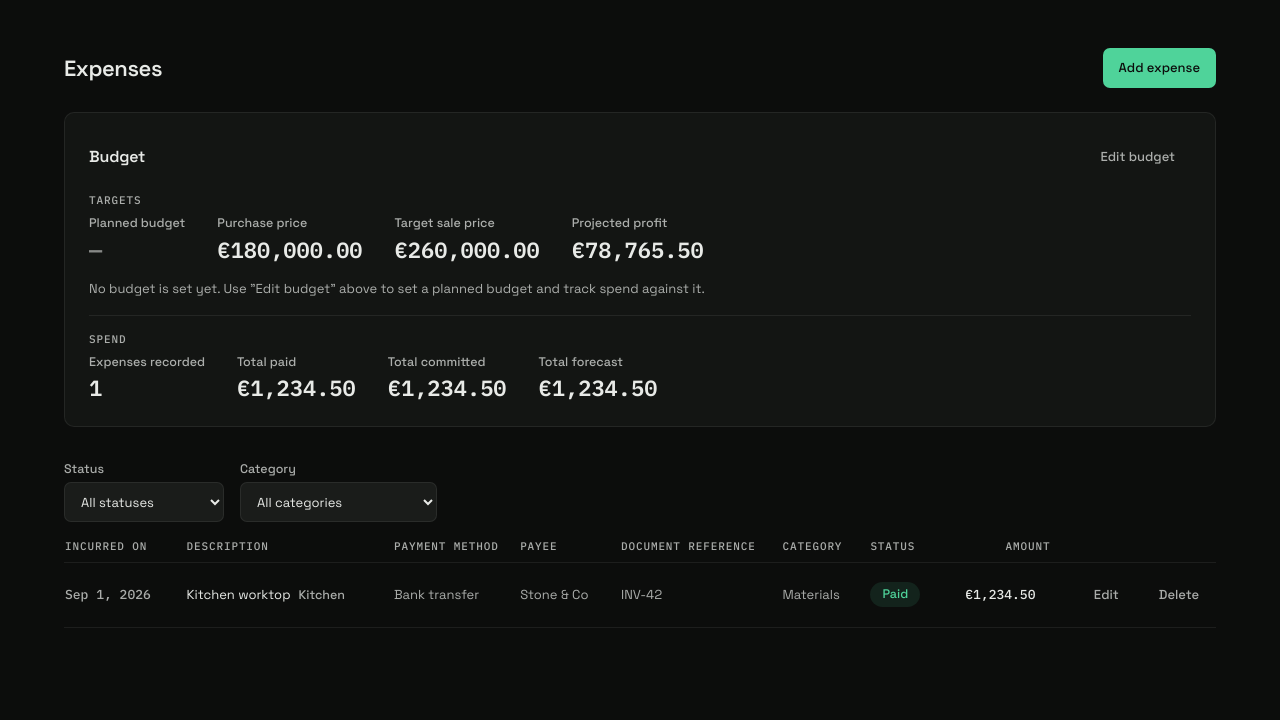
Test: ExpensesScreen › sets a budget from the strip and shows the new remainder without a reload
The width and height of the screenshot is (1280, 720).
Step 1. Click the button "Edit budget" → (1138, 157), box [1084,137,1191,177]
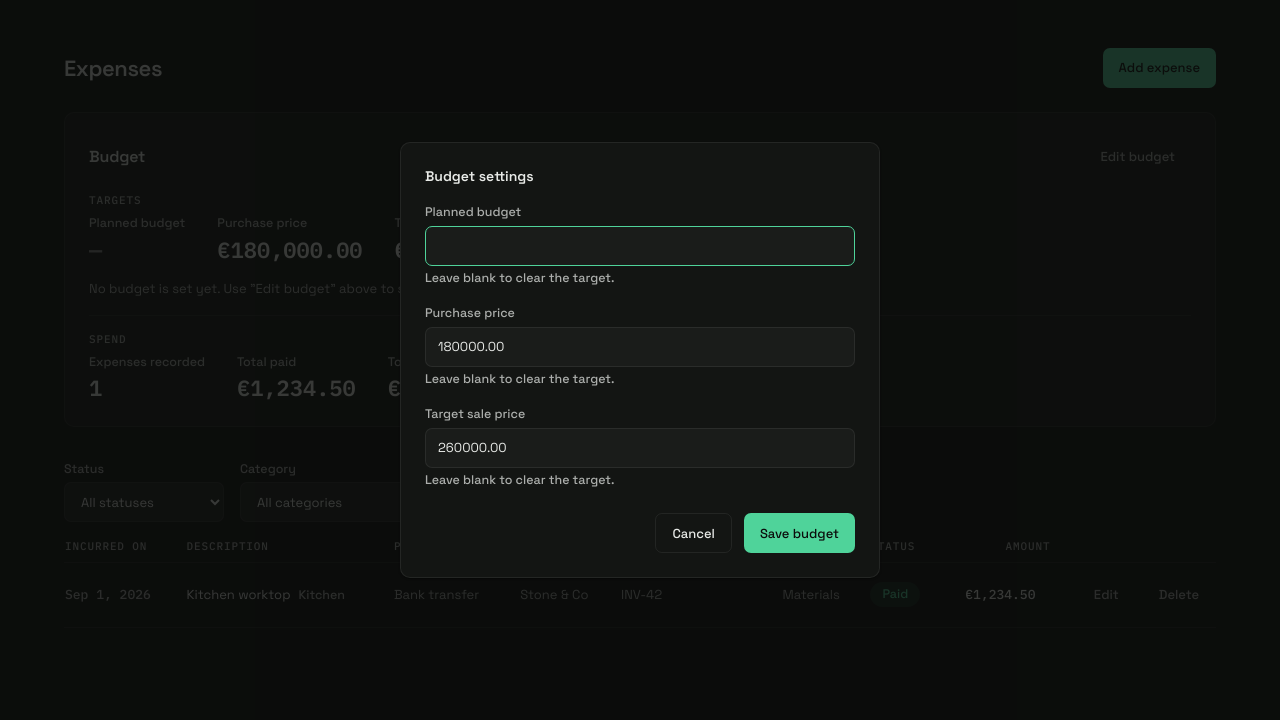
Step 2. Type "50000.00" into the field labelled "Planned budget" → (640, 246), box [425,226,855,266]
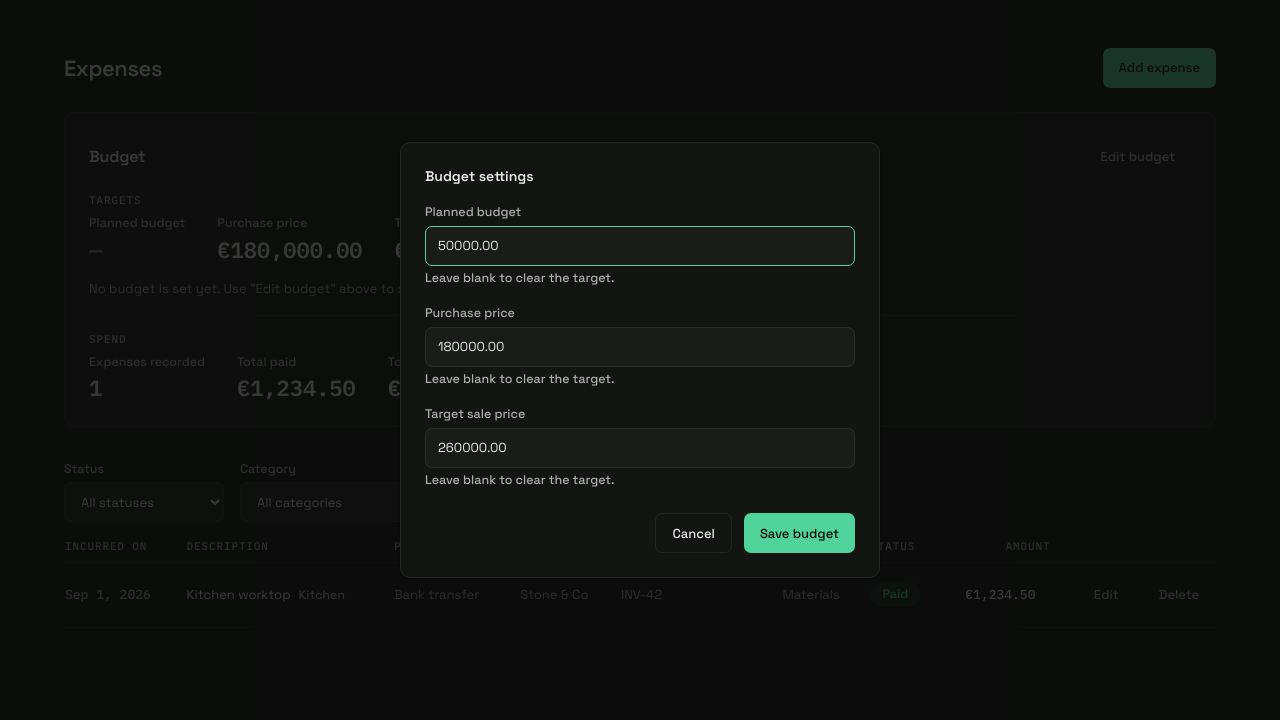
Step 3. Click the button "Save budget" → (799, 533), box [744,513,855,553]
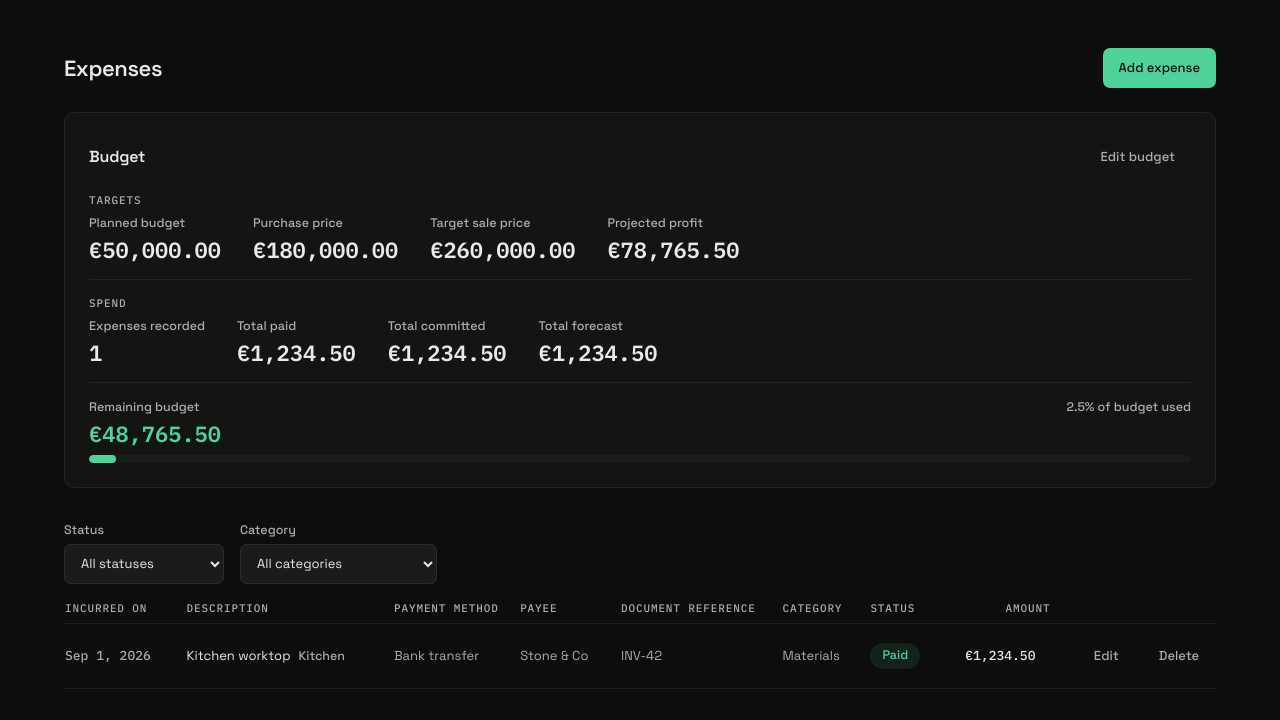
Expected: the dialog is gone
Expected: the text "Remaining budget" is shown, [89,399,200,417]
